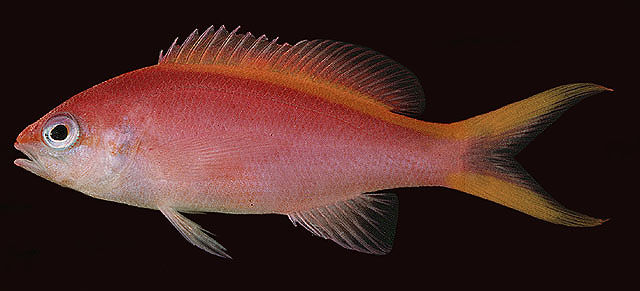fish: (12, 23, 615, 260)
